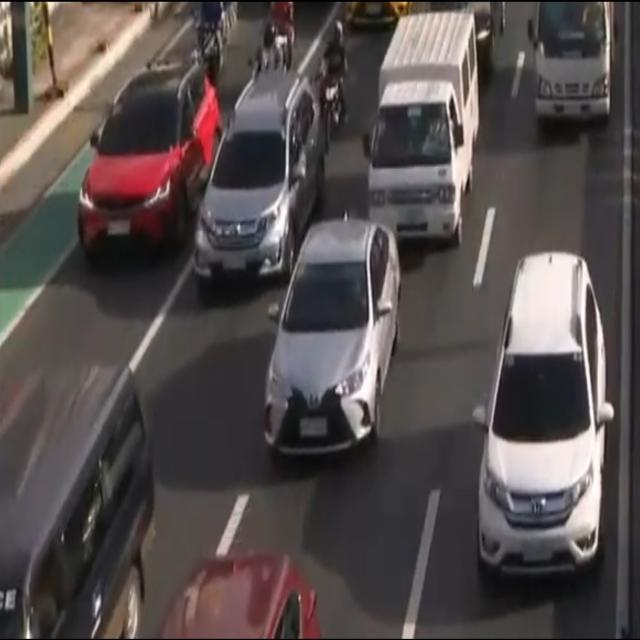Motorcycle: (318, 22, 352, 147), (255, 15, 290, 96)
Pick-up: (366, 18, 479, 244)
SUV: (477, 252, 611, 581), (193, 77, 330, 276), (80, 68, 219, 261)
Sedan: (262, 227, 406, 462)
Truck: (524, 0, 618, 141)
Van: (0, 364, 160, 640)
